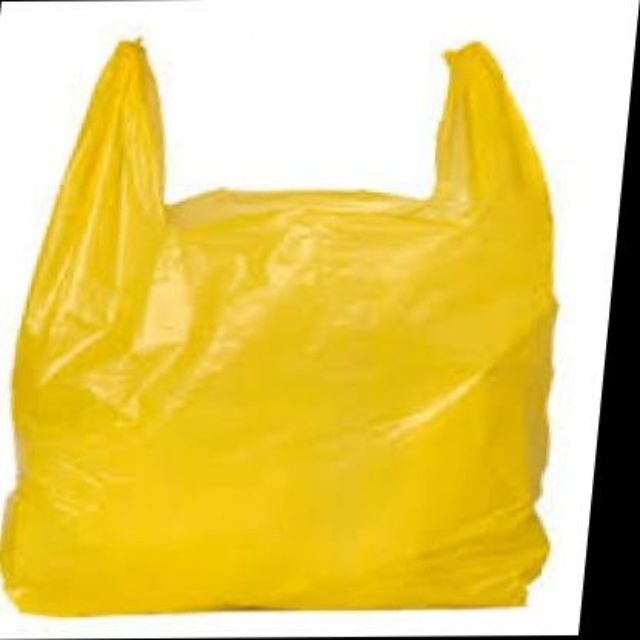trash: (2, 42, 555, 614)
